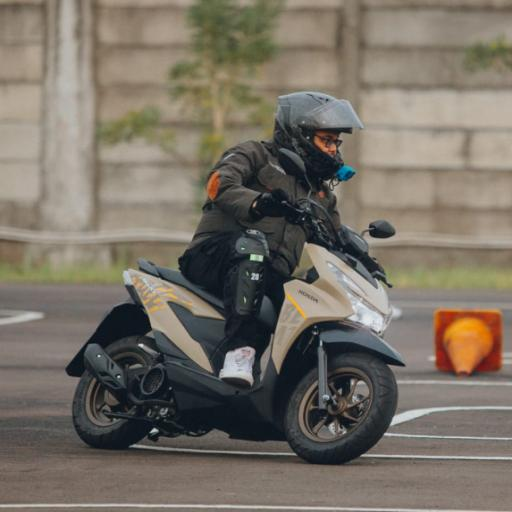Helmet: (266, 82, 365, 188)
Motor: (67, 244, 403, 463)
